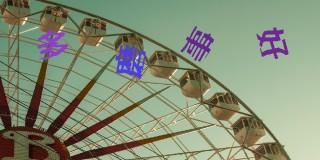事: (180, 26, 215, 62)
多: (37, 29, 68, 60)
好: (256, 26, 288, 60)
磨: (115, 45, 147, 78)
